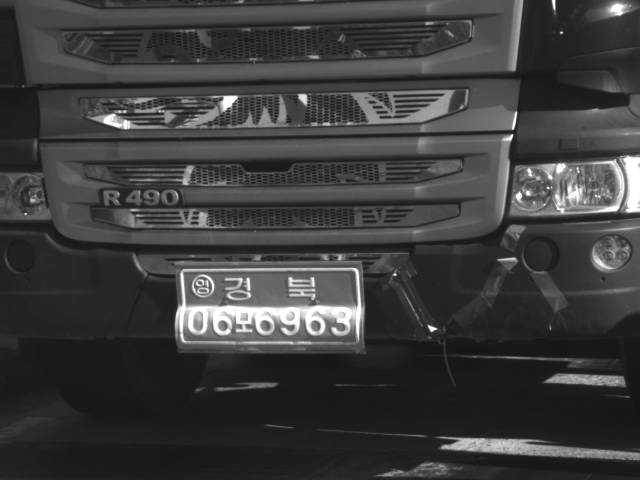car: (1, 1, 639, 416)
plate: (178, 265, 364, 346)
